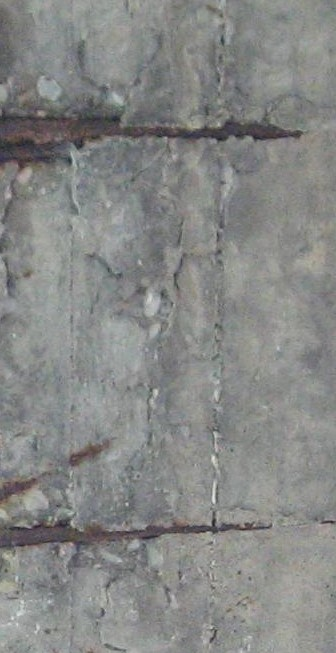Exposed reinforcement: (1, 119, 304, 146), (1, 436, 117, 504), (1, 525, 274, 549), (1, 146, 75, 163), (320, 518, 336, 527)
